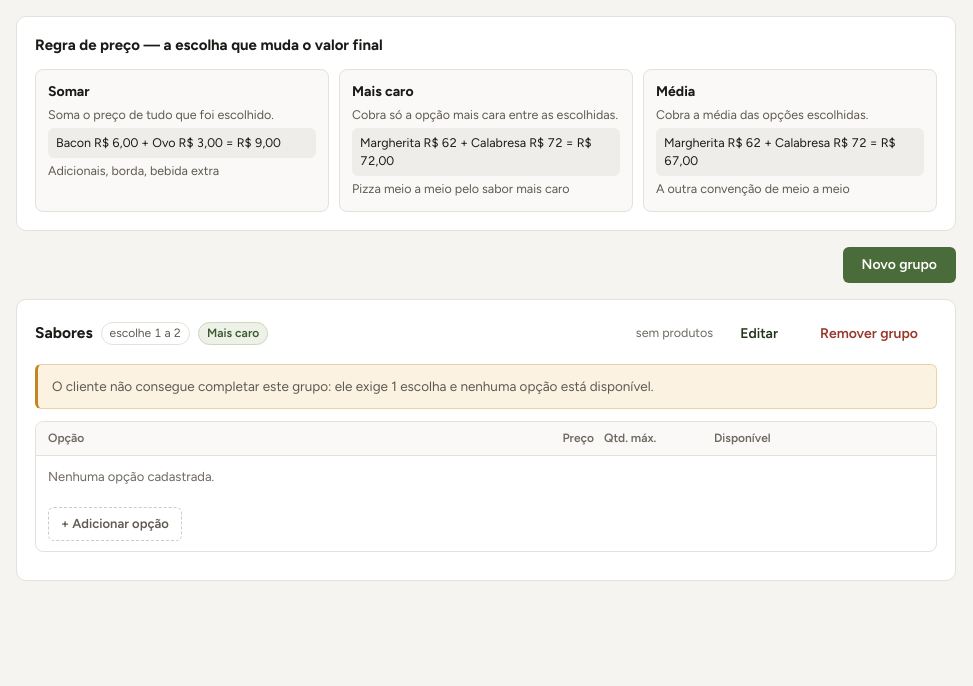
Test: OptionGroupsPage (grupos) › nome repetido: o 409 da API aparece no próprio cartão
The width and height of the screenshot is (973, 686).
Click the button with aria-label "Editar grupo Sabores". click: click(759, 334)
box: [721,316,797,352]
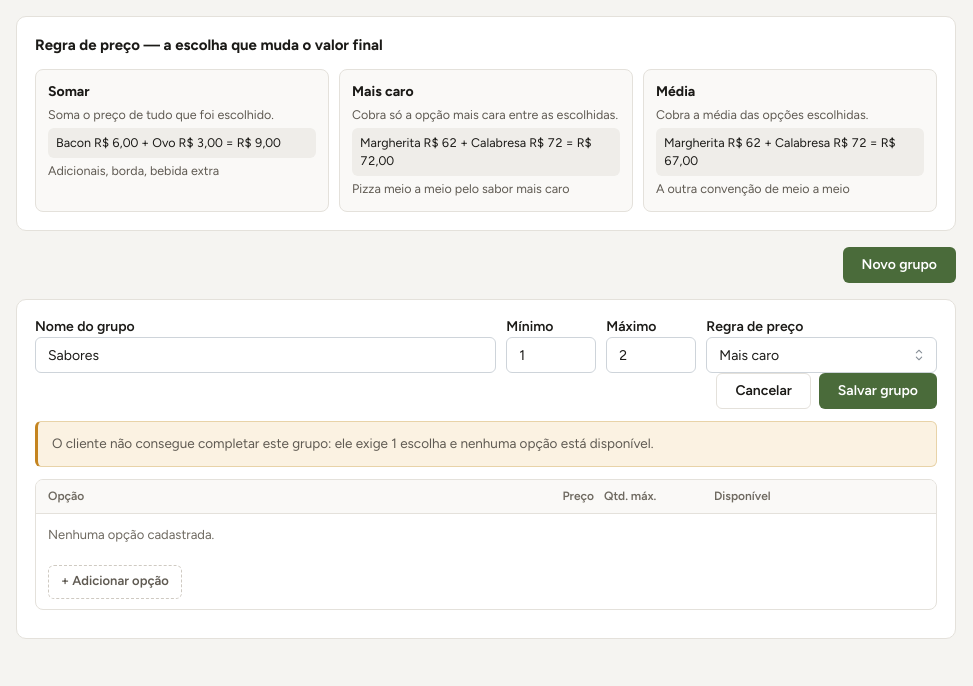
Replace the text in the field labelled "Nome do grupo" with "Borda". click: (266, 355)
box: [35,337,496,373]
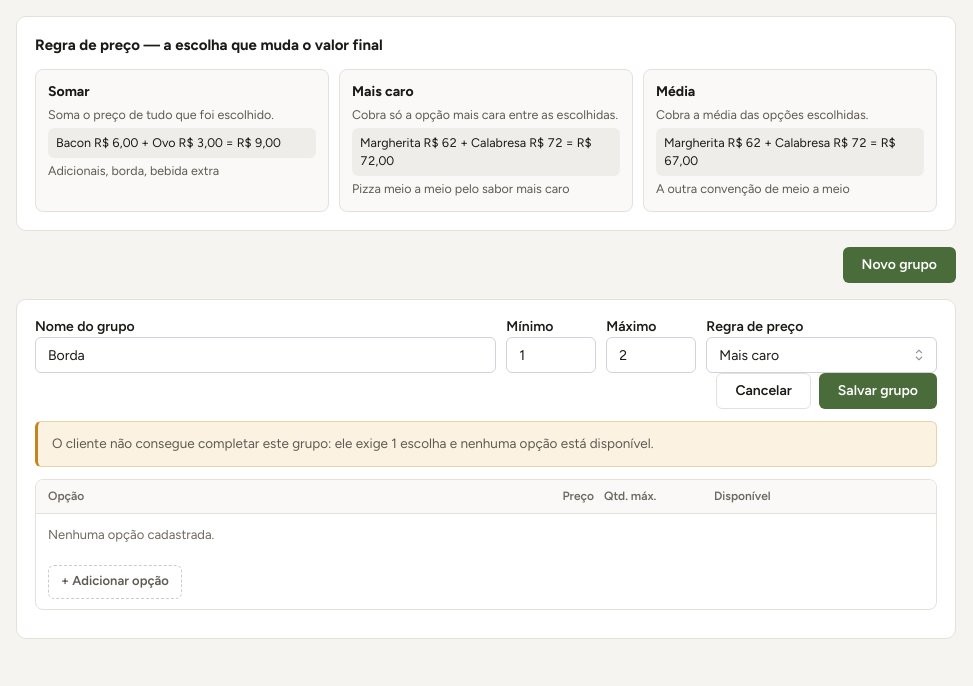
Click the button "Salvar grupo". click: click(878, 391)
box: [819,373,937,409]
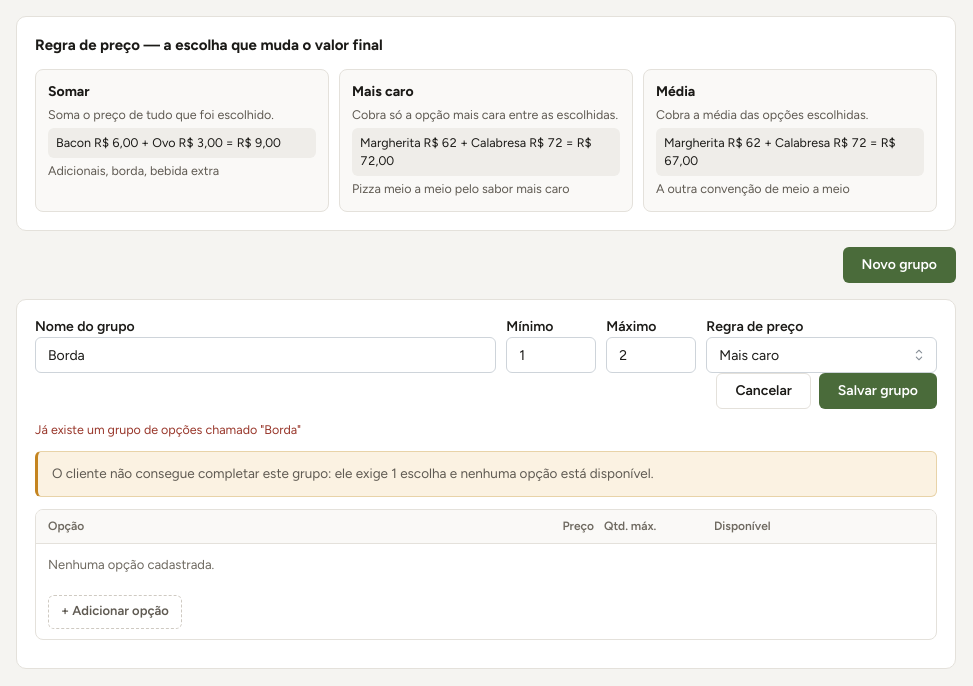
expect the text "Já existe um grupo de opções chamado \"Borda\"" is shown: met, box [35,422,301,437]
